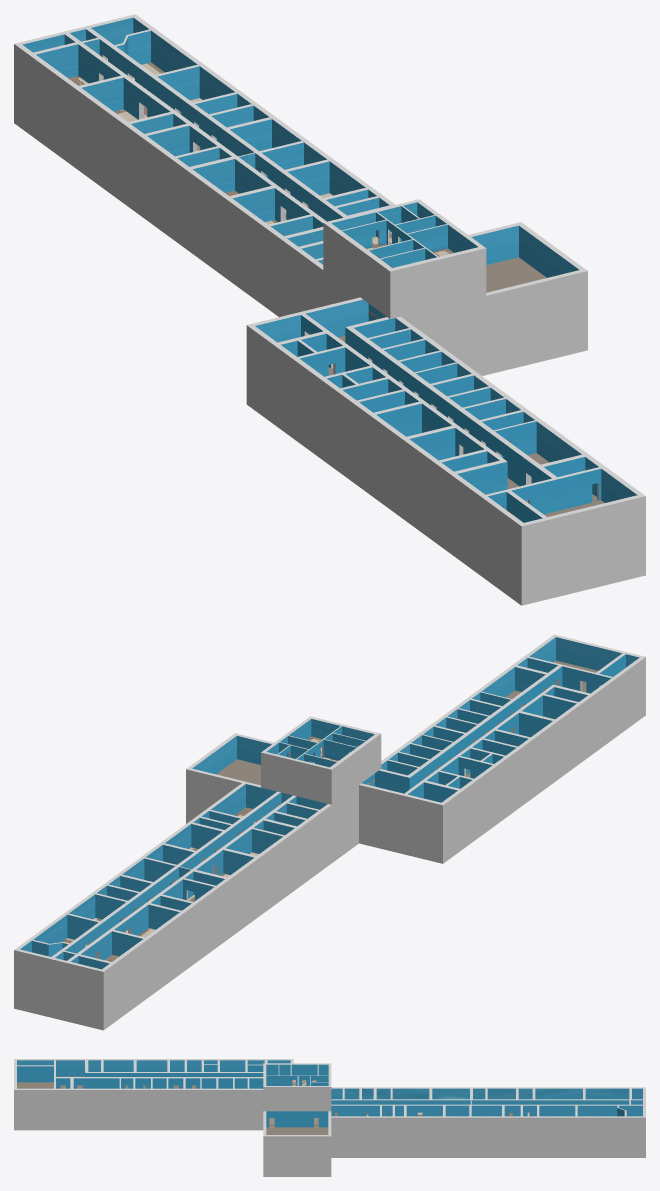
The model's file is vsues4_2.fbx.
3 renders of one model, top to bottom at view 1: azimuth 30°, elevation 25°; view 2: azimuth 150°, elevation 25°; view 3: azimuth 270°, elevation 25°, orthographic. The views are drawn at different scales.
Parts seen in each view (by area): view 1: wall_out_left, wall_out_right, wll_in_2_left, wall_in_2_right, wall_out_central, wall_out_central_8, wall_out_central_7, wall_in_central_8, floor_2_central; view 2: wall_out_right, wall_out_left, wall_in_2_right, wll_in_2_left, wall_out_central, wall_out_central_8, wall_out_central_7, wall_in_central_8, floor_2_central; view 3: wall_out_right, wall_out_left, wall_in_2_right, wll_in_2_left, wall_out_central, wall_out_central_8, wll_in_2_central, wall_out_central_7, wall_in_central_8, floor_2_central, floor_2_left.
Part boxes in pixels (left/top/right/bottom): wall_out_left: left=246, top=297, right=645, bottom=605; wall_out_right: left=14, top=14, right=395, bottom=316; wll_in_2_left: left=278, top=313, right=601, bottom=522; wall_in_2_right: left=33, top=28, right=390, bottom=264; wall_out_central: left=323, top=222, right=587, bottom=375; wall_out_central_8: left=323, top=199, right=486, bottom=295; wall_out_central_7: left=323, top=246, right=486, bottom=319; wall_in_central_8: left=341, top=206, right=447, bottom=267; floor_2_central: left=486, top=257, right=546, bottom=292; wall_out_right: left=14, top=783, right=331, bottom=1030; wall_out_left: left=359, top=634, right=645, bottom=863; wall_in_2_right: left=32, top=782, right=327, bottom=969; wll_in_2_left: left=375, top=653, right=625, bottom=802; wall_out_central: left=186, top=733, right=358, bottom=862; wall_out_central_8: left=261, top=716, right=381, bottom=787; wall_out_central_7: left=261, top=751, right=381, bottom=804; wall_in_central_8: left=277, top=726, right=365, bottom=767; floor_2_central: left=216, top=759, right=260, bottom=785; wall_out_right: left=331, top=1087, right=645, bottom=1157; wall_out_left: left=14, top=1059, right=293, bottom=1130; wall_in_2_right: left=328, top=1088, right=642, bottom=1116; wll_in_2_left: left=17, top=1060, right=267, bottom=1088; wall_out_central: left=263, top=1111, right=331, bottom=1176; wall_out_central_8: left=263, top=1063, right=331, bottom=1098; wll_in_2_central: left=266, top=1111, right=328, bottom=1127; wall_out_central_7: left=263, top=1099, right=331, bottom=1111; wall_in_central_8: left=266, top=1064, right=328, bottom=1085; floor_2_central: left=266, top=1118, right=328, bottom=1134; floor_2_left: left=17, top=1076, right=196, bottom=1088.
Size of the model in its own units: 411 by 160 by 1419.
